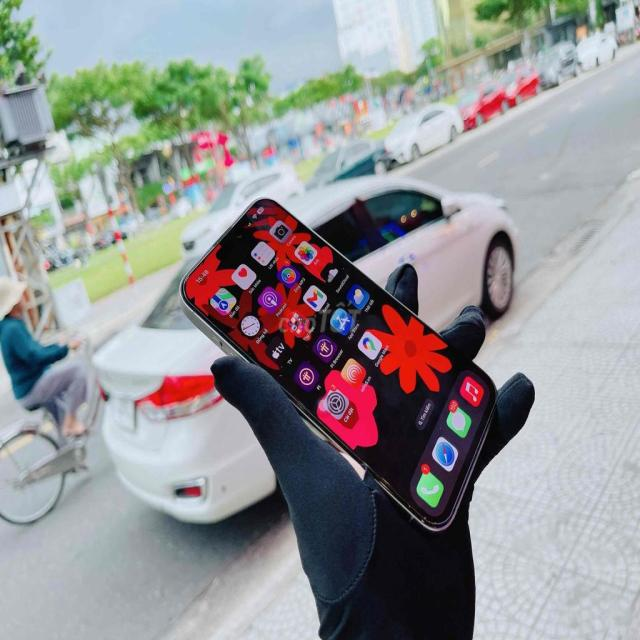gen_15: (175, 191, 502, 538)
